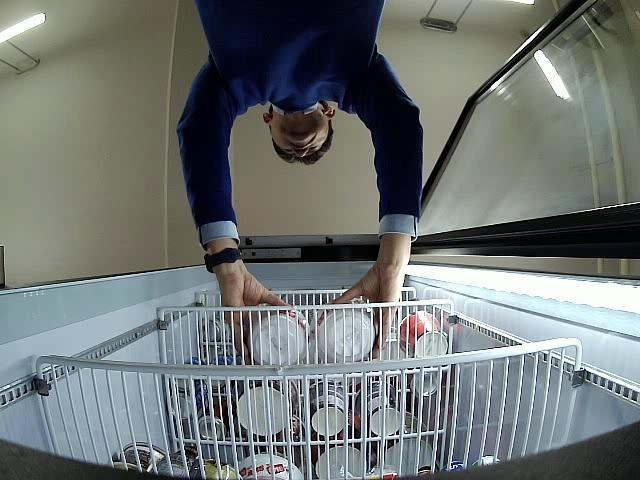09_yukGaeJang: (310, 297, 378, 364), (248, 310, 310, 365)
